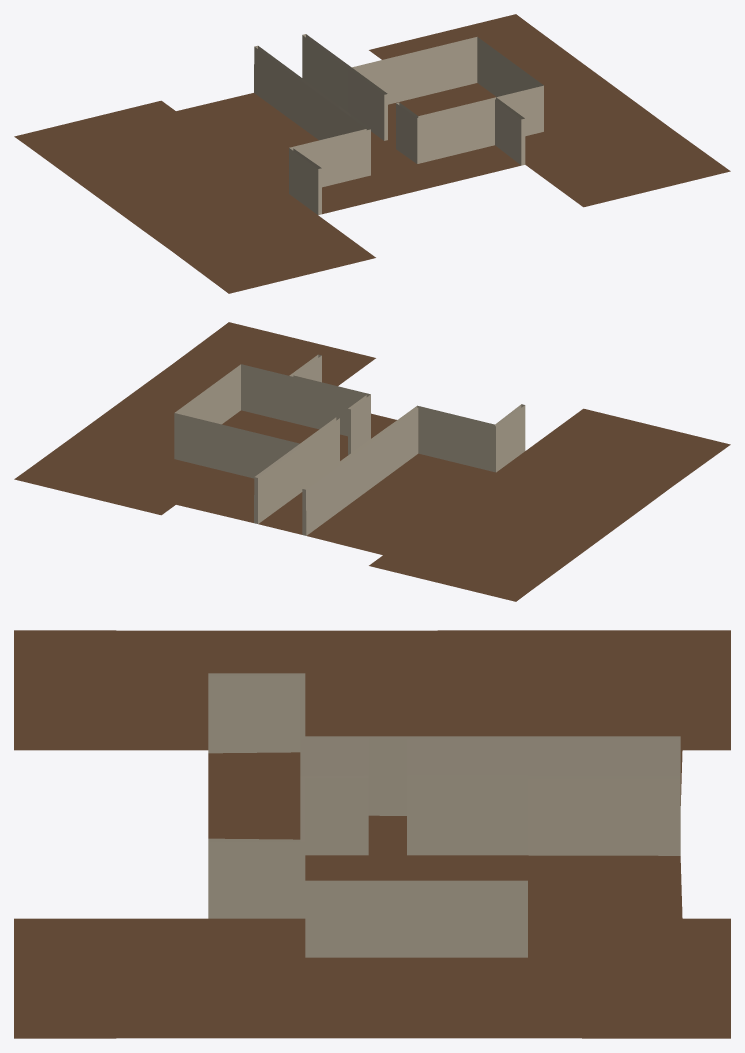
The model's file is Main_block_Interior_FL1.fbx.
3 views of the same model, one above another, from view 1: azimuth 30°, elevation 25°; view 2: azimuth 150°, elevation 25°; view 3: azimuth 270°, elevation 25° (orthographic). The views are drawn at different scales.
Parts seen in each view (by area): view 1: FL1.Interior; view 2: FL1.Interior; view 3: FL1.Interior.
Part boxes in pixels (x1,y1,x2,y2): FL1.Interior: (14,14,730,293); FL1.Interior: (14,322,730,601); FL1.Interior: (14,630,730,1038).
Size of the model in its own units: 3982 by 350 by 2953.
